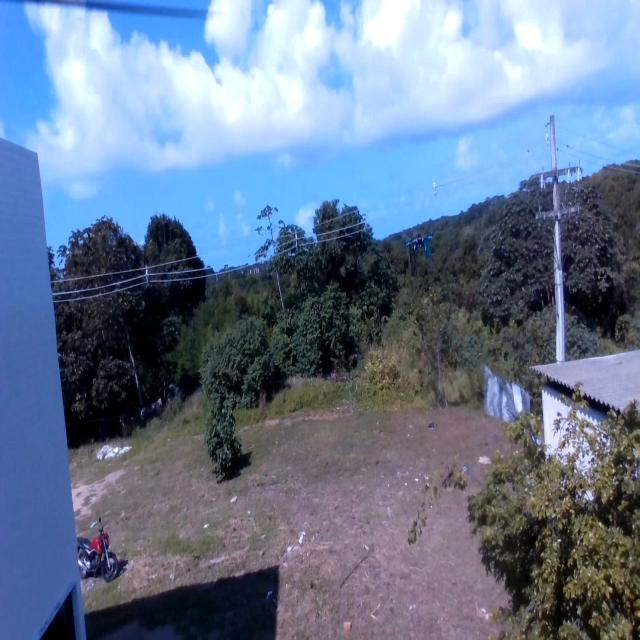-uav-: (405, 225, 437, 268)
